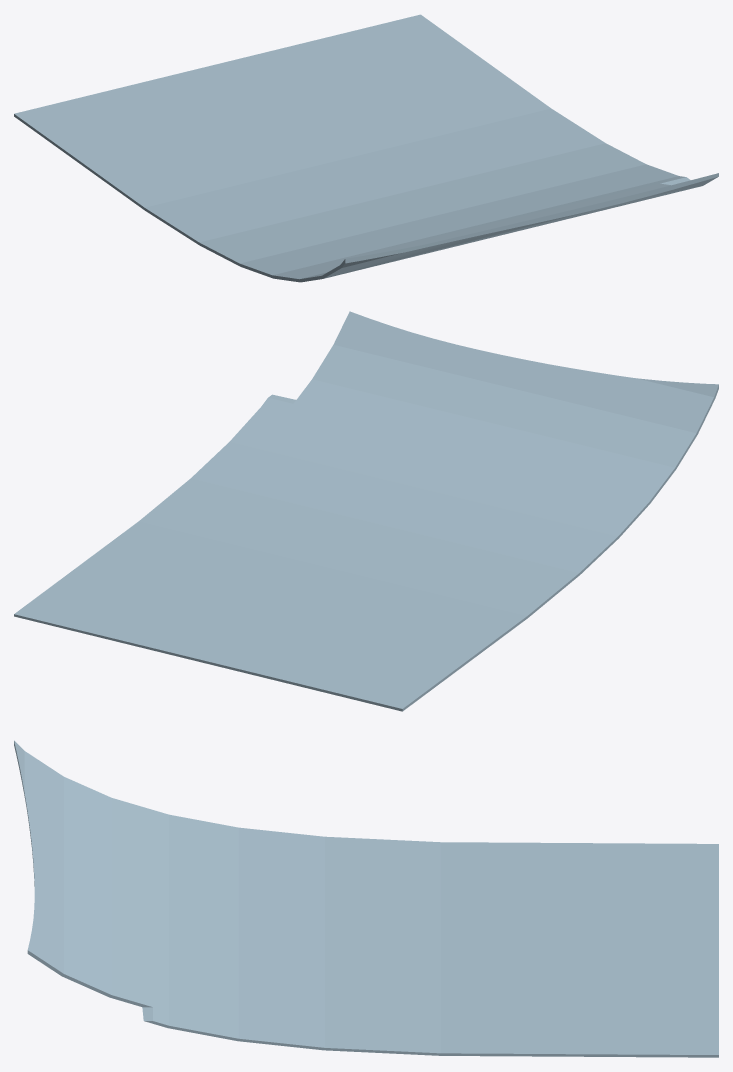
File: WIN-L.glb
3 views of the same model, one above another, from view 1: azimuth 30°, elevation 25°; view 2: azimuth 150°, elevation 25°; view 3: azimuth 270°, elevation 25° (orthographic). The views are drawn at different scales.
Parts seen in each view (by area): view 1: geometry_0; view 2: geometry_0; view 3: geometry_0.
Boxes of the visible parts, <box> form: geometry_0: <box>14,14,718,282</box>; geometry_0: <box>14,311,718,711</box>; geometry_0: <box>14,740,718,1057</box>.
Bounding box in the file's own units: 488 × 115 × 689.
